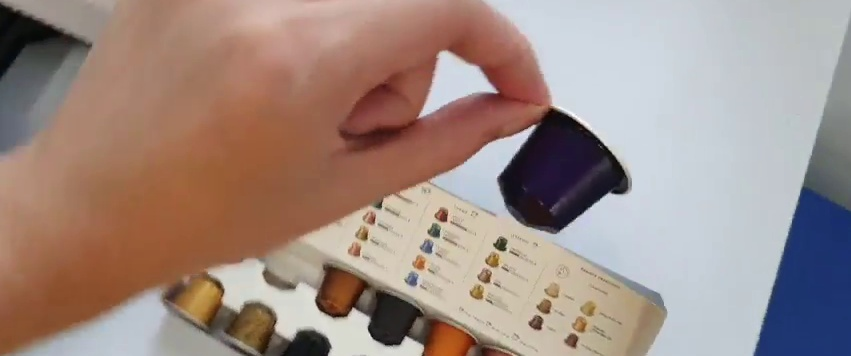capsule_2: (498, 99, 635, 237)
